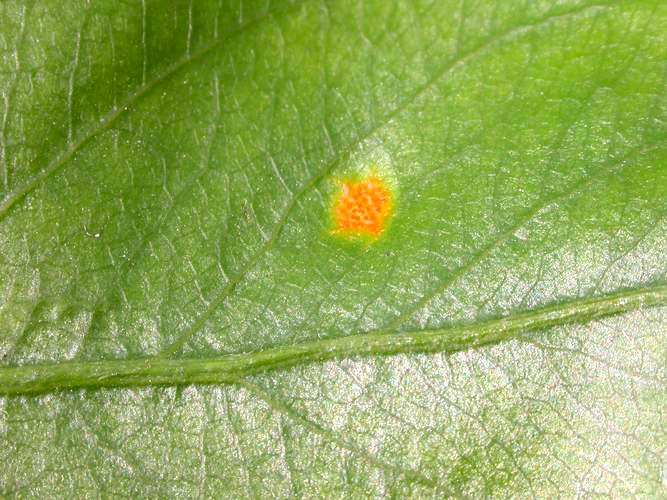Anthracnose: (317, 149, 398, 239)
